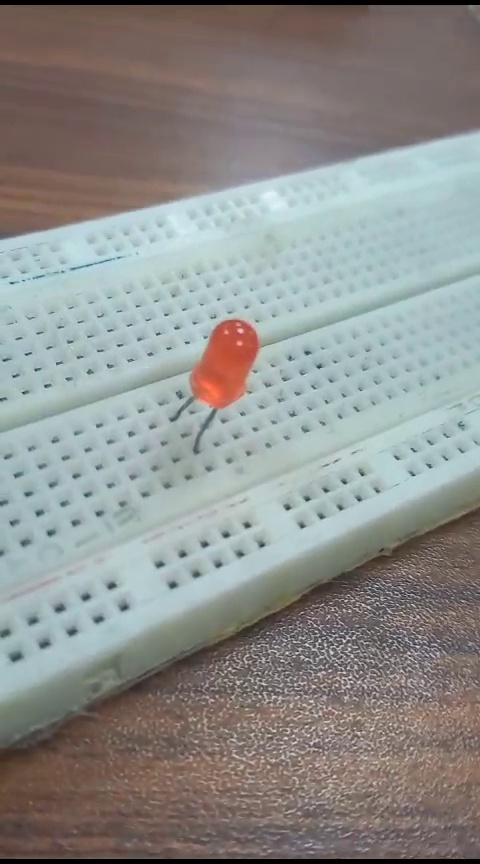LED: (187, 297, 264, 435)
